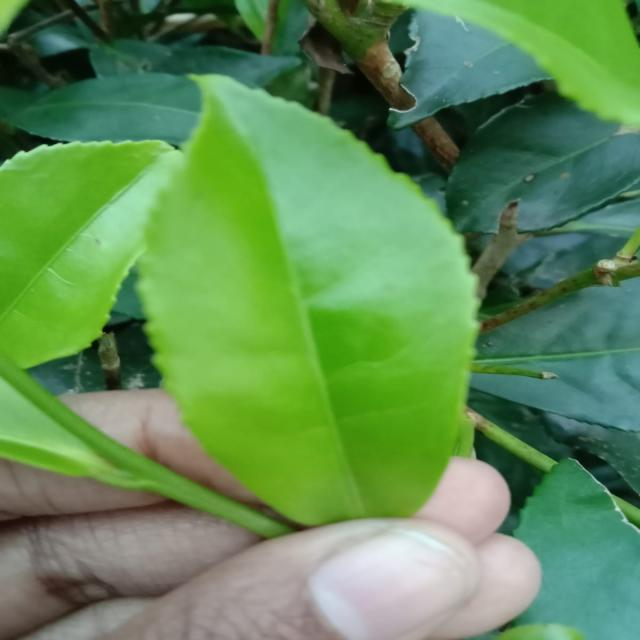Category C(4-7 days): (112, 46, 508, 560)
